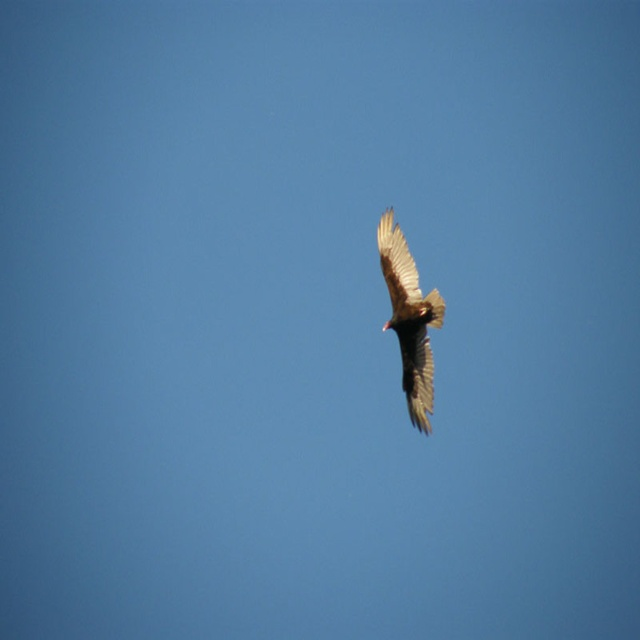Eagle: (371, 209, 443, 451)
